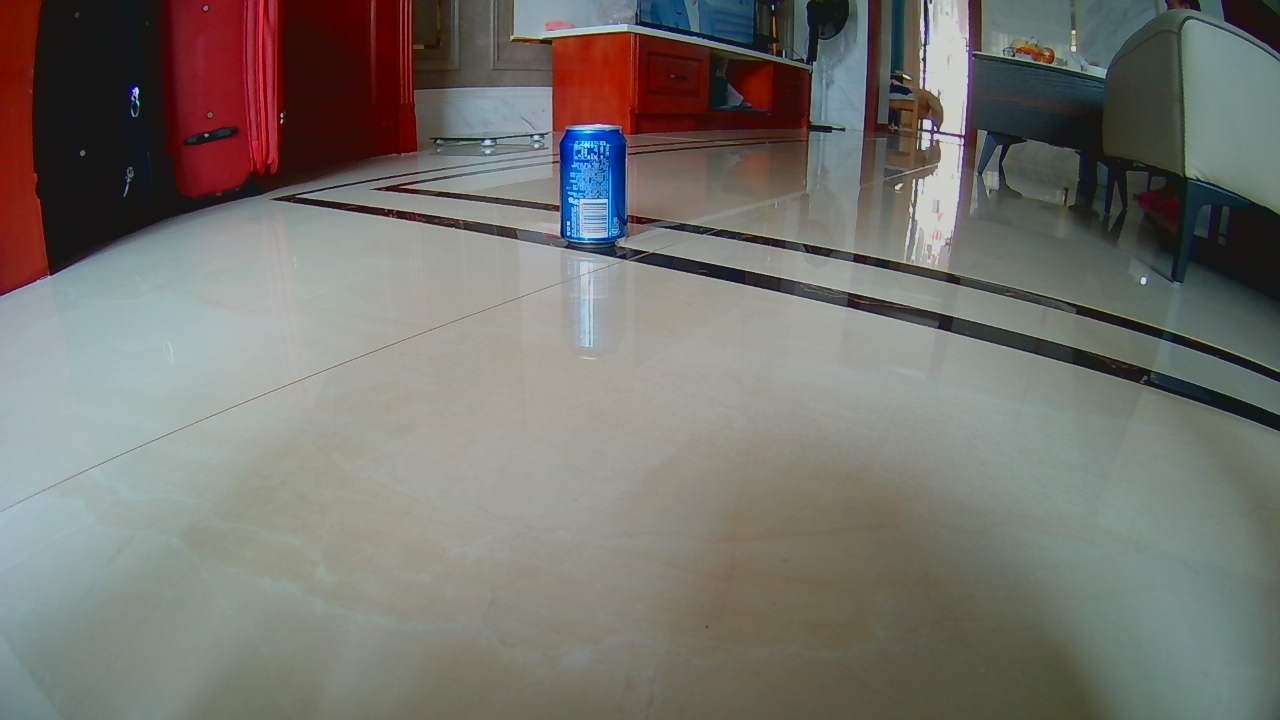pessi: (551, 125, 628, 247)
